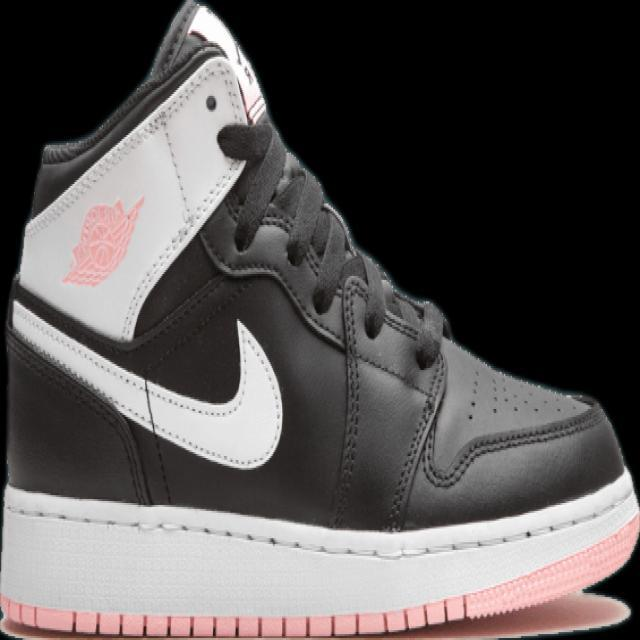J1_InsoleChar: (0, 0, 639, 639)
J1_ShoeLogo: (61, 193, 145, 287)
J1_StitchPattern: (6, 284, 606, 522), (0, 478, 637, 636), (210, 121, 447, 528), (6, 290, 285, 471), (2, 486, 637, 563), (25, 55, 245, 233), (327, 270, 447, 530), (217, 120, 359, 314), (3, 595, 472, 639), (422, 402, 607, 490), (383, 347, 448, 532), (327, 273, 368, 528), (137, 373, 175, 506)
